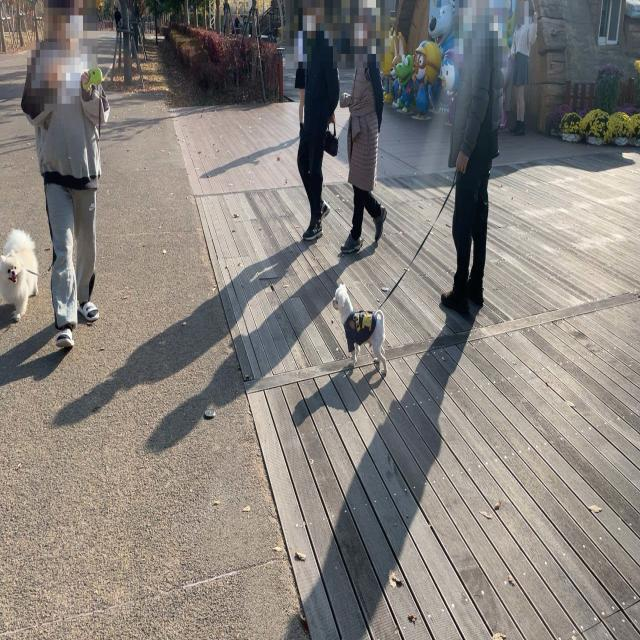Leashed_Dog: (333, 149, 466, 377), (0, 204, 64, 323)
